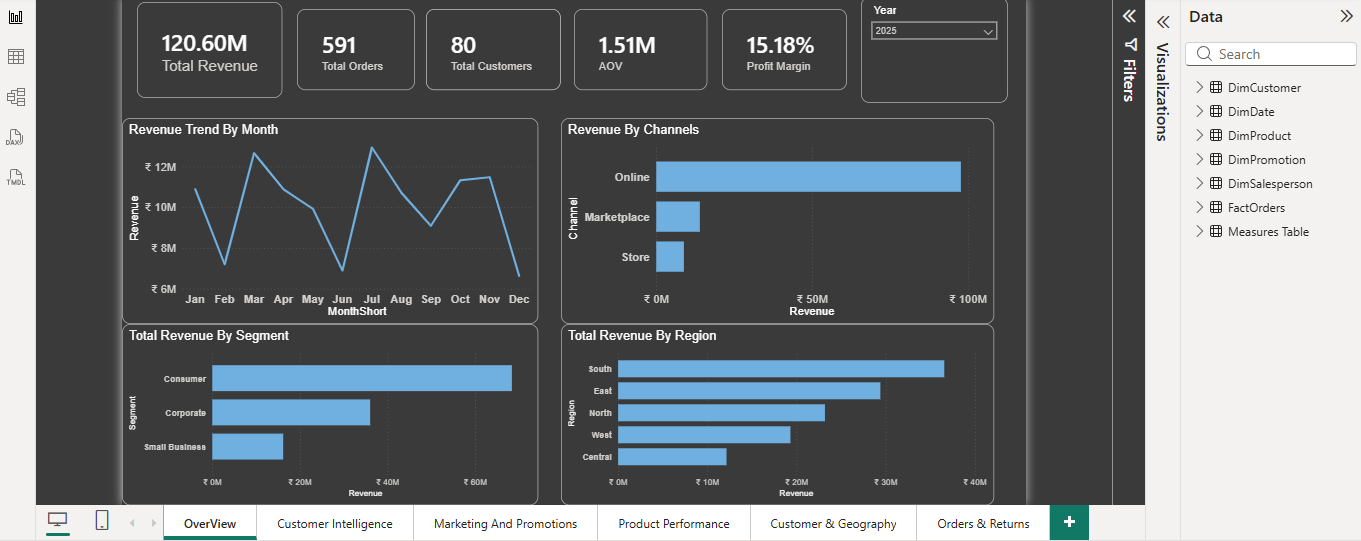

The dashboard page shown, as its layout file describes it:
{"tool":"powerbi","page":{"name":"OverView","canvas":[1280,720],"ordinal":0},"visuals":[{"type":"cardVisual","fields":{"Data":["Measures Table.Total Net Sales"]},"box":[21.3,7.1,205.5,136.1],"z":0},{"type":"cardVisual","fields":{"Data":["Measures Table.Total Orders"]},"box":[248,17,167.2,114.8],"z":1000},{"type":"cardVisual","fields":{"Data":["Measures Table.AOV"]},"box":[640.6,17,188.5,114.8],"z":2000},{"type":"cardVisual","fields":{"Data":["Measures Table.Total Customers"]},"box":[430.9,17,191.3,114.8],"z":3000},{"type":"cardVisual","fields":{"Data":["Measures Table.Profit Margin"]},"box":[850.4,17,177.2,114.8],"z":4000},{"type":"lineChart","title":"Revenue Trend By Month","fields":{"Y":["Measures Table.Total Net Sales"],"Category":["DimDate.MonthShort"]},"box":[0,171.5,589.6,292],"z":5000},{"type":"clusteredBarChart","title":"Revenue By Channels","fields":{"Category":["FactOrders.SalesChannel"],"Y":["Measures Table.Total Net Sales"]},"box":[622.2,171.5,613.7,292],"z":6000},{"type":"clusteredBarChart","title":"Total Revenue By Segment","fields":{"Category":["DimCustomer.Segment"],"Y":["Measures Table.Total Net Sales"]},"box":[0,463.5,589.6,256.5],"z":7000},{"type":"clusteredBarChart","title":"Total Revenue By Region","fields":{"Category":["DimCustomer.Region"],"Y":["Measures Table.Total Net Sales"]},"box":[622.2,463.5,613.7,256.5],"z":8000},{"type":"slicer","fields":{"Values":["DimDate.Year"]},"box":[1047.4,0,208.3,150.2],"z":8001}]}

Visuals, with their boxes on the page's 1280x720 design canvas (x1, y1, x2, y2). These are canvas units, not pixel positions in the 1361x541 screenshot, which may show the page scaled, cropped or inside an application window:
cardVisual - Measures Table.Total Net Sales: [21,7,227,143]
cardVisual - Measures Table.Total Orders: [248,17,415,132]
cardVisual - Measures Table.AOV: [641,17,829,132]
cardVisual - Measures Table.Total Customers: [431,17,622,132]
cardVisual - Measures Table.Profit Margin: [850,17,1028,132]
"Revenue Trend By Month" lineChart: [0,172,590,464]
"Revenue By Channels" clusteredBarChart: [622,172,1236,464]
"Total Revenue By Segment" clusteredBarChart: [0,464,590,720]
"Total Revenue By Region" clusteredBarChart: [622,464,1236,720]
slicer - DimDate.Year: [1047,0,1256,150]
